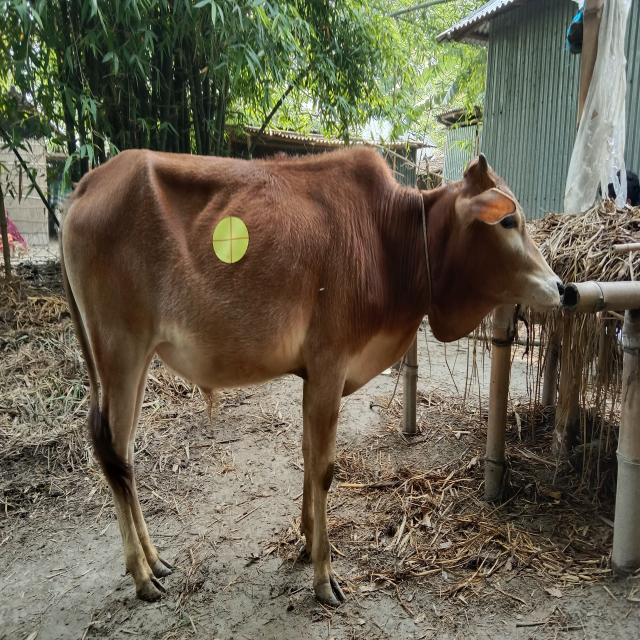badan_sapi: (66, 161, 387, 390)
sapi: (60, 136, 567, 612)
